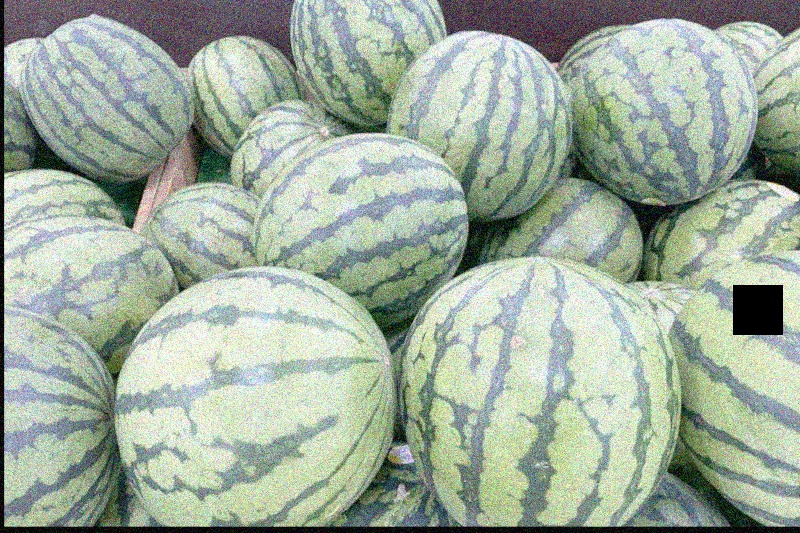watermelon: (402, 260, 681, 525), (116, 269, 398, 524), (244, 125, 471, 304), (578, 17, 762, 205), (396, 26, 568, 219), (22, 15, 193, 177), (5, 218, 184, 344)
